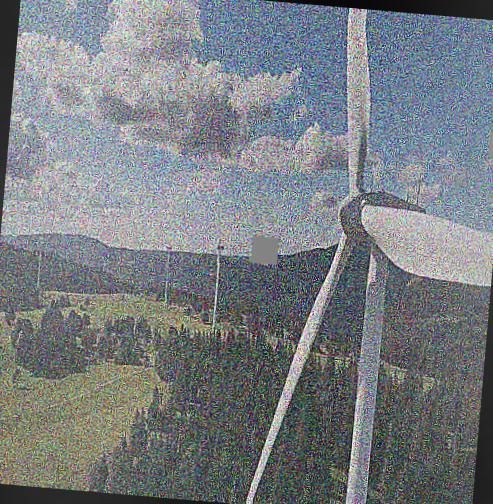wind turbine: (242, 7, 492, 497), (203, 232, 229, 331)
